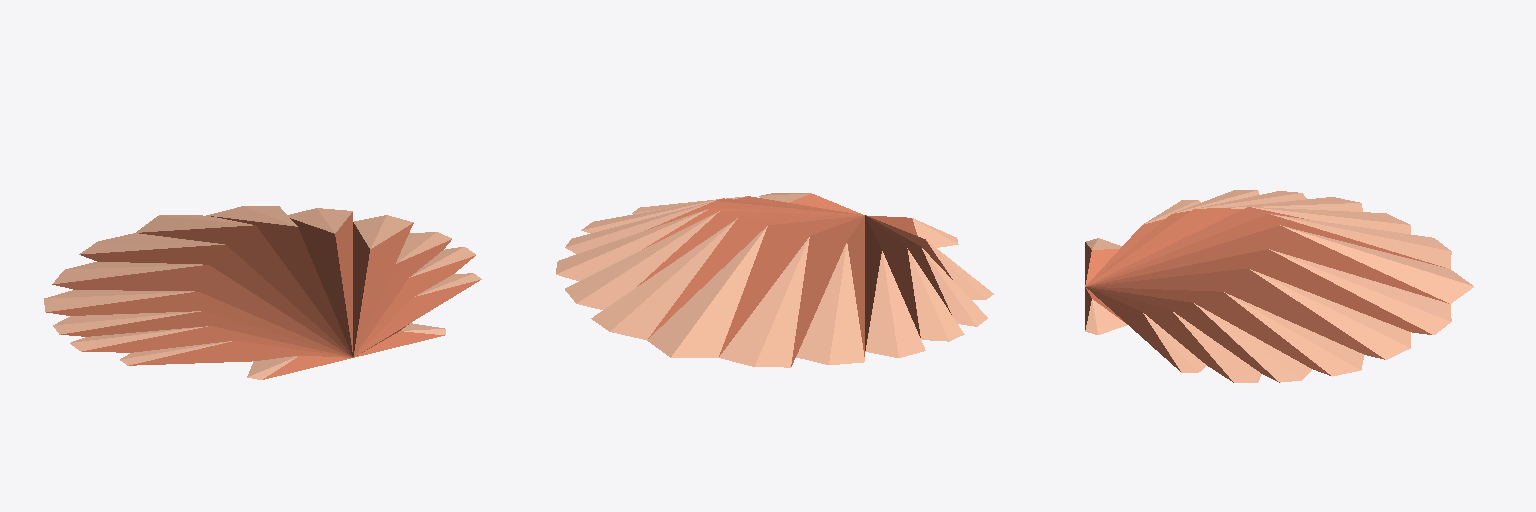
The model's file is scallopshell.obj.
3 renders of one model, left to right at view 1: azimuth 30°, elevation 25°; view 2: azimuth 150°, elevation 25°; view 3: azimuth 270°, elevation 25°, orthographic.
Parts seen in each view (by area): view 1: Mesh1 Model; view 2: Mesh1 Model; view 3: Mesh1 Model.
Boxes of the visible parts, x1=… form: Mesh1 Model: x1=44, y1=206, x2=481, y2=379; Mesh1 Model: x1=556, y1=193, x2=993, y2=367; Mesh1 Model: x1=1085, y1=190, x2=1473, y2=382.
Bounding box in the file's own units: 7.59 × 1.12 × 6.47.